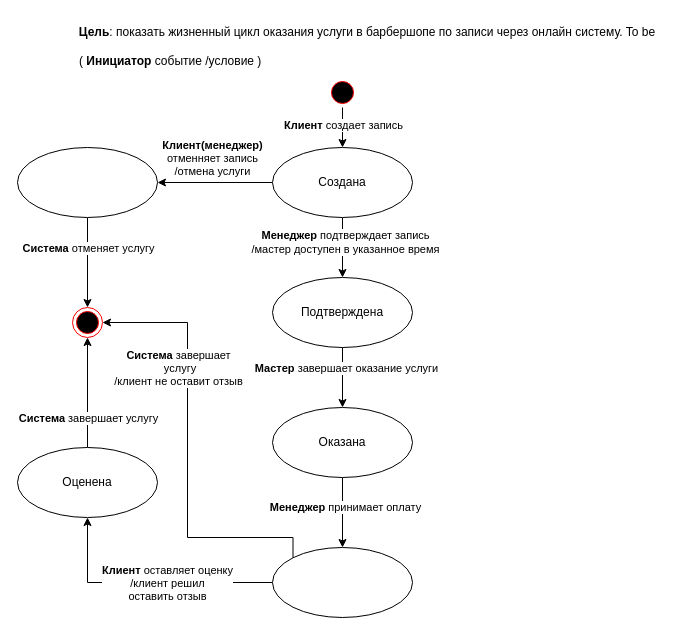
Image size: 685x635. Some labels were removed from this diagram. The shapes that lost their labels are listed below. From the top down, each one's centre as x and y in pixels, then its label:
At point (87, 182): "Отменена".
At point (342, 582): "Оплачена".
